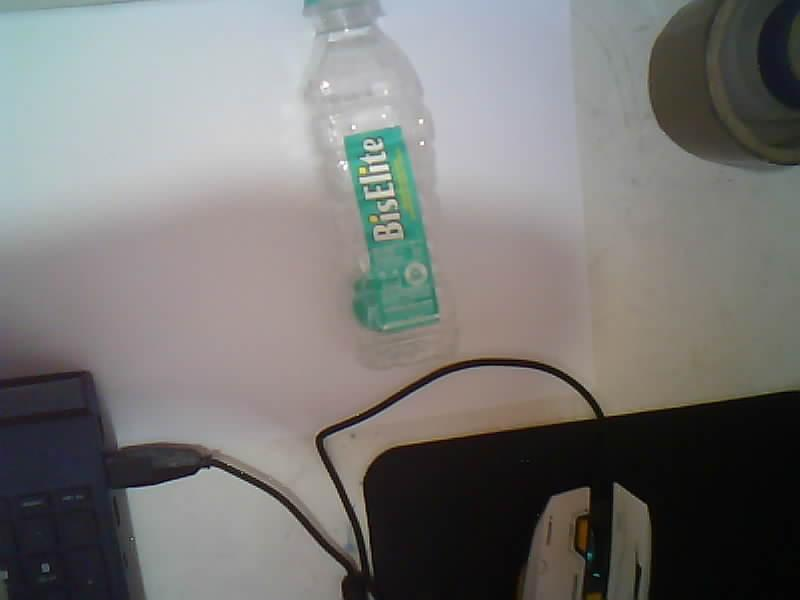non-biodegradable: (304, 0, 452, 367)
